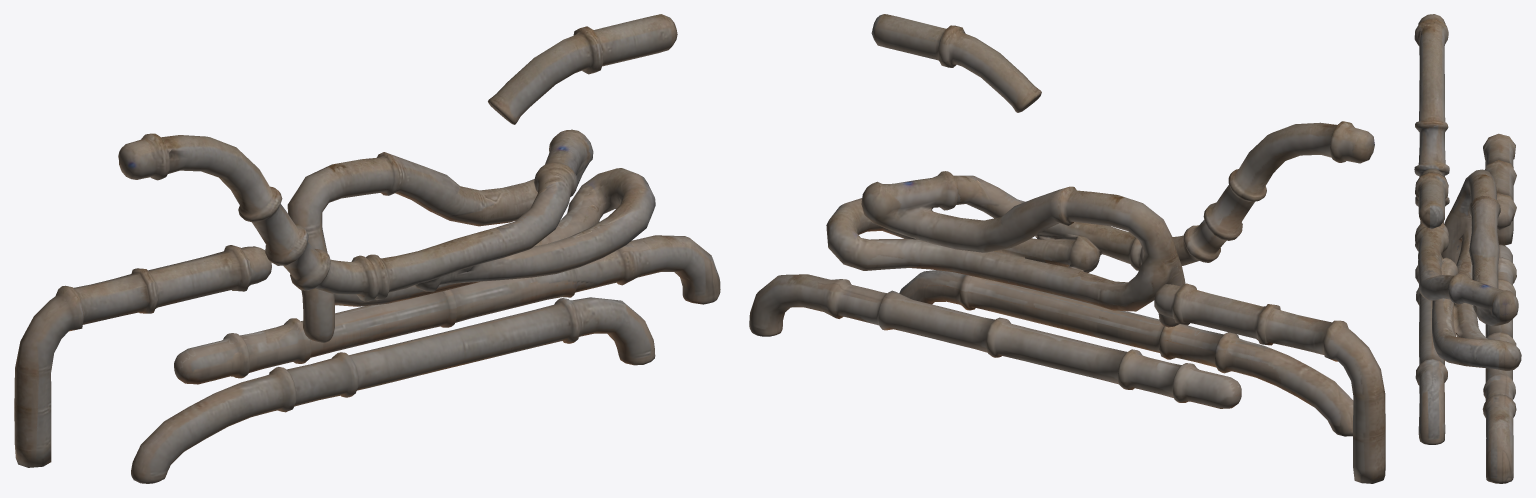
The model's file is Creepy_old_shining_pi_0124161646_stylize.fbx.
3 views of the same model, side by side, from view 1: azimuth 30°, elevation 25°; view 2: azimuth 150°, elevation 25°; view 3: azimuth 270°, elevation 25° (orthographic). The views are drawn at different scales.
Visible parts, largest first — view 1: Mesh_0.001; view 2: Mesh_0.001; view 3: Mesh_0.001.
Boxes of the visible parts, bbox=[...] form: Mesh_0.001: bbox=[14, 14, 720, 483]; Mesh_0.001: bbox=[749, 14, 1385, 483]; Mesh_0.001: bbox=[1414, 14, 1521, 483].
Bounding box in the file's own units: 2151 × 1000 × 389.
Materials: 1 (1 with a texture image).
